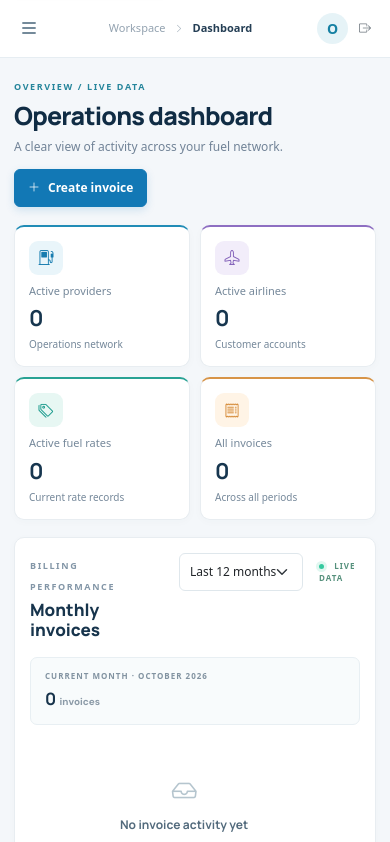
AFM authentication shell › provides keyboard navigation and an accessible mobile menu
Expected: the heading "Operations dashboard" is shown, left=14, top=100, right=283, bottom=130
Click the button named "open menu" at (29, 28), box left=14, top=8, right=44, bottom=48
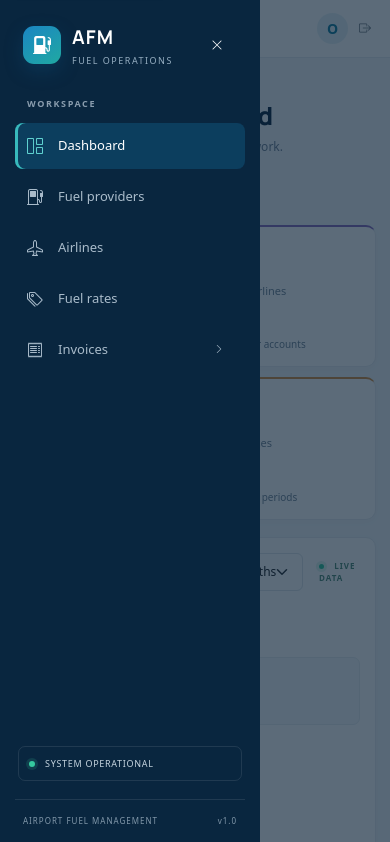
Result: the 1st button named "Close menu" is expanded at left=14, top=8, right=44, bottom=48
